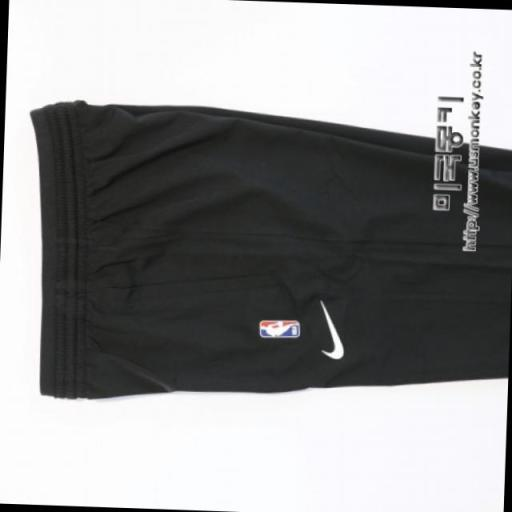Nike: (309, 293, 351, 368)
